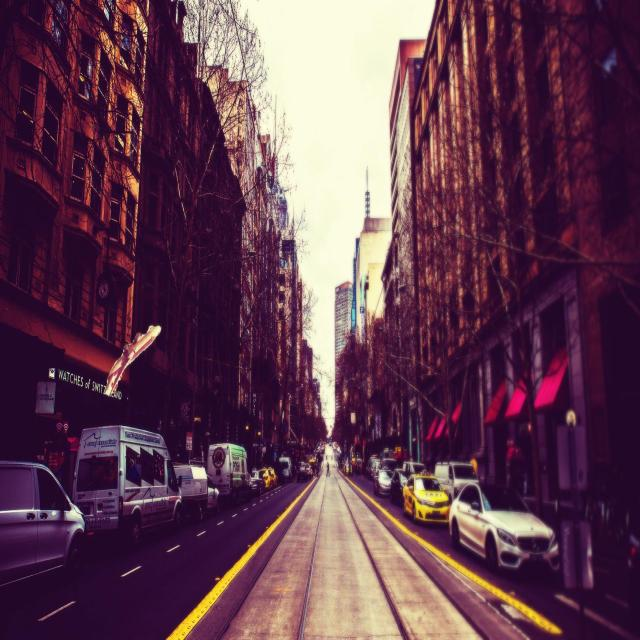airplane: (102, 323, 161, 396)
